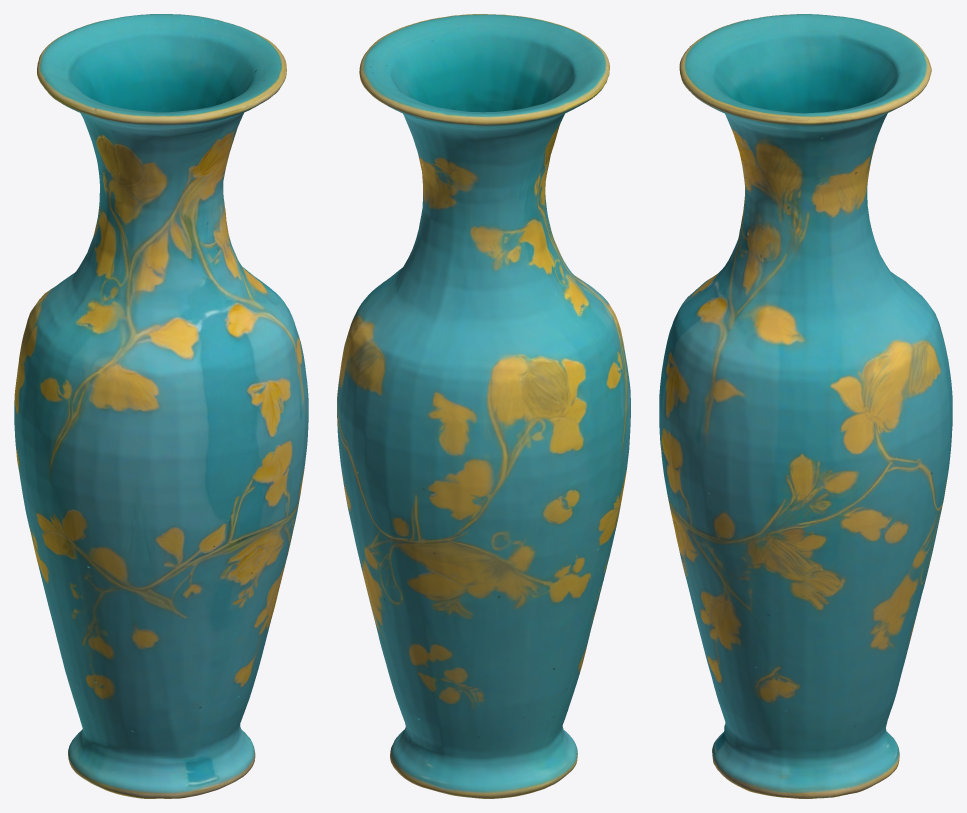
Rendered from vase2.glb.
The picture shows the model from 3 angles, left to right: view 1: azimuth 30°, elevation 25°; view 2: azimuth 150°, elevation 25°; view 3: azimuth 270°, elevation 25°; orthographic projection.
Bounding box in the file's own units: 0.7556 × 1.98 × 0.7548.
1 material, 1 textured.
